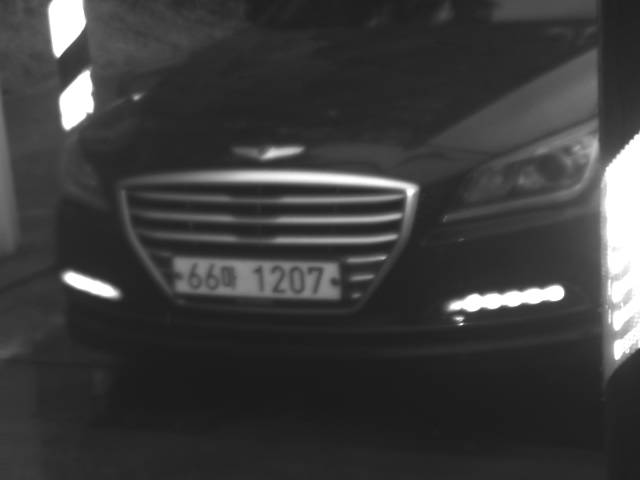car: (55, 1, 639, 397)
plate: (170, 253, 345, 305)
